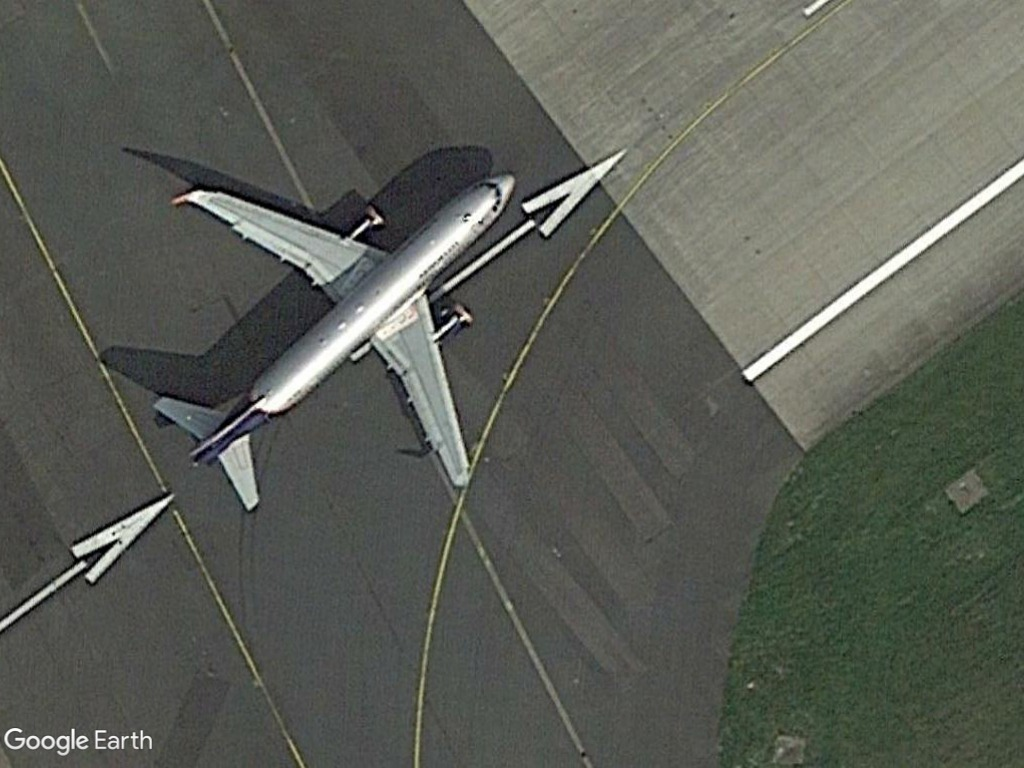airliner: (148, 166, 556, 517)
